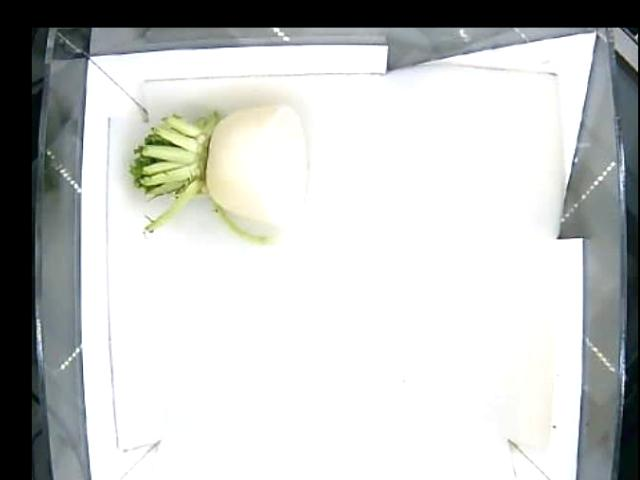Mooli: (133, 102, 305, 244)
